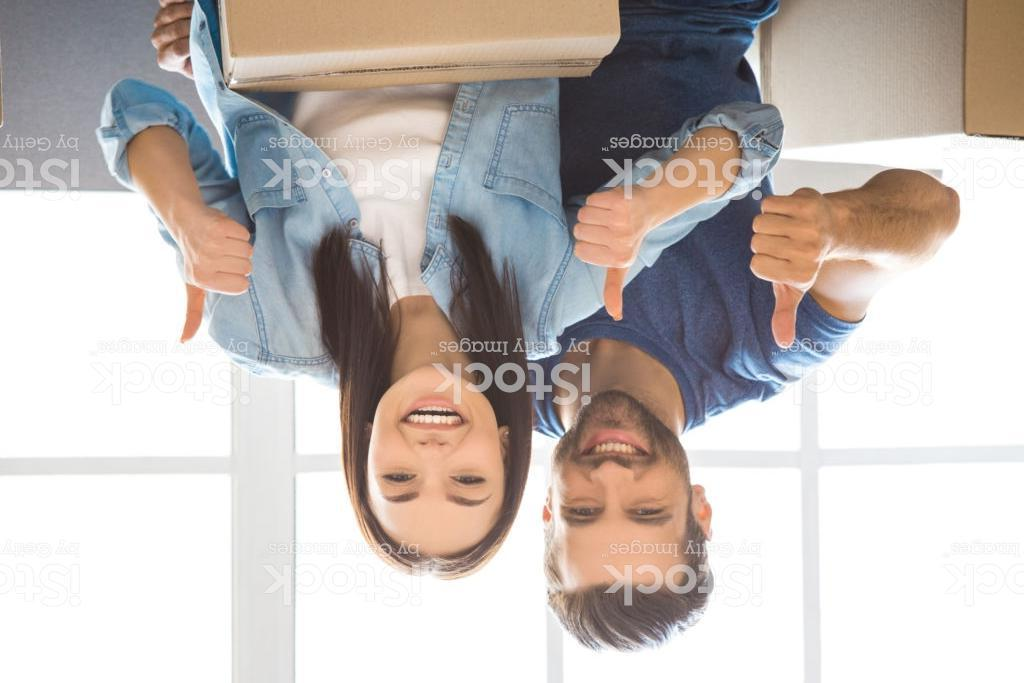thumbsdown: (748, 186, 828, 349), (178, 214, 256, 346), (570, 184, 643, 324)
